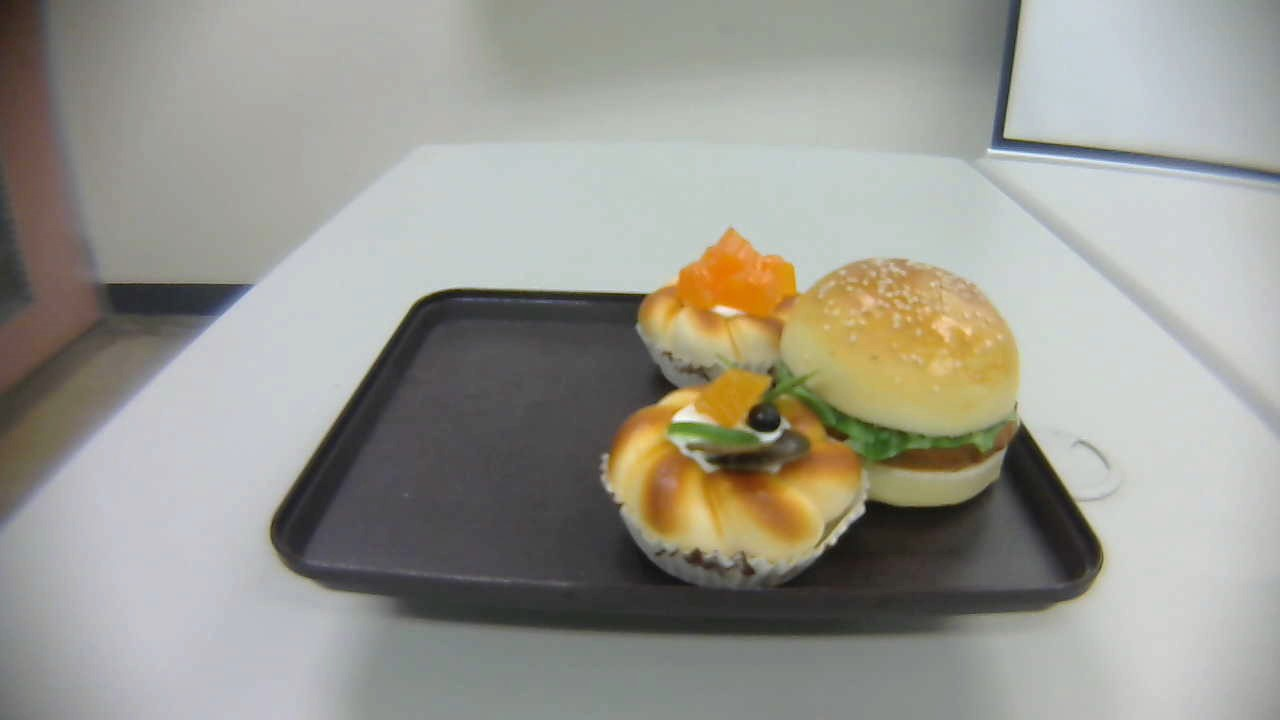fruit tart: (601, 364, 868, 594)
hamburger: (780, 257, 1020, 510)
mango tart: (637, 229, 805, 397)
